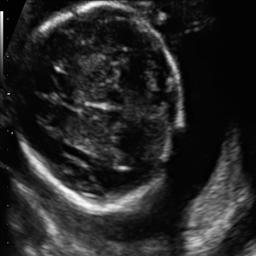normal: (14, 2, 188, 215)
